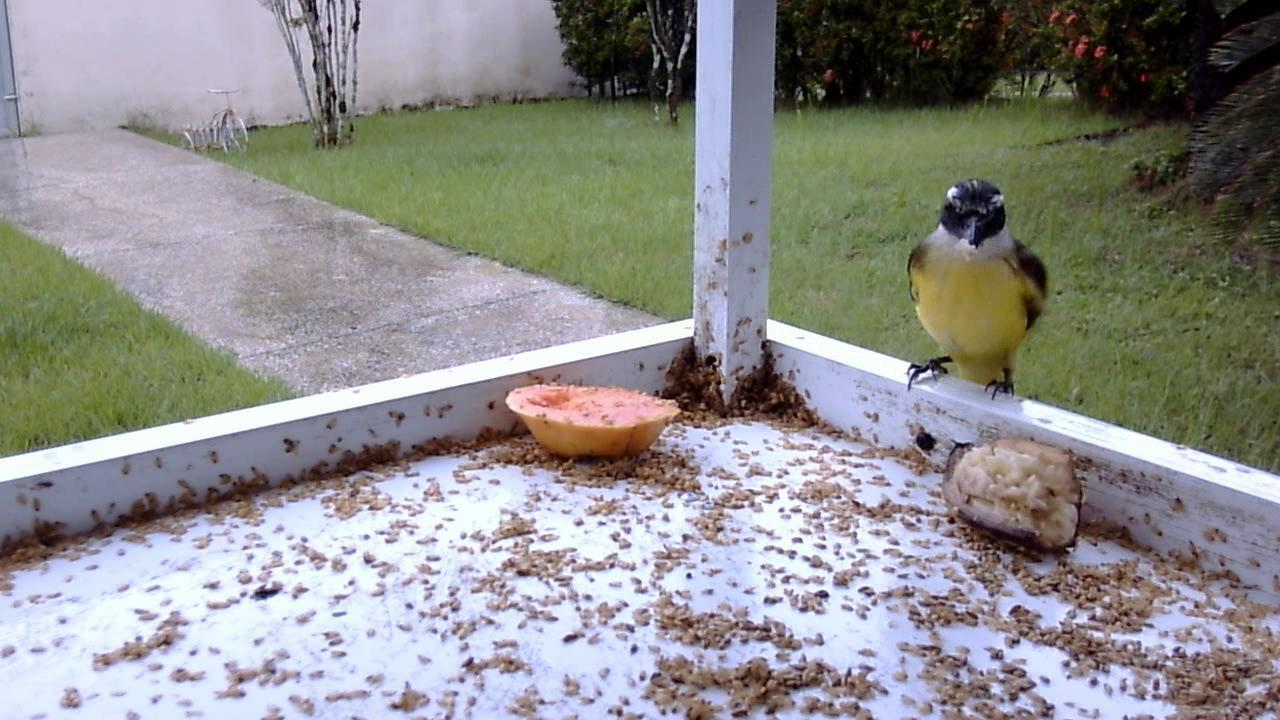bem_te_vi: (901, 174, 1054, 414)
